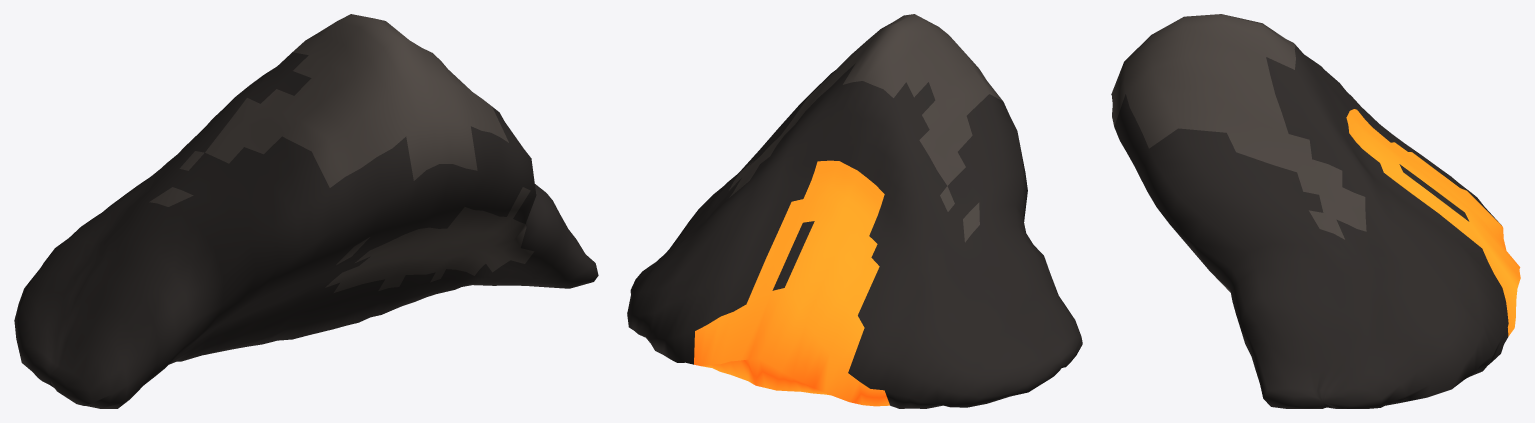
File: demolisher-segment.glb
3 views of the same model, side by side, from view 1: azimuth 30°, elevation 25°; view 2: azimuth 150°, elevation 25°; view 3: azimuth 270°, elevation 25° (orthographic). The views are drawn at different scales.
Visible parts, largest first — view 1: body; view 2: body; view 3: body.
Part boxes in pixels (x1,y1,x2,y2): body: [14, 14, 598, 408]; body: [627, 14, 1082, 408]; body: [1111, 14, 1520, 408].
Bounding box in the file's own units: 8.96 × 5.69 × 7.21.
